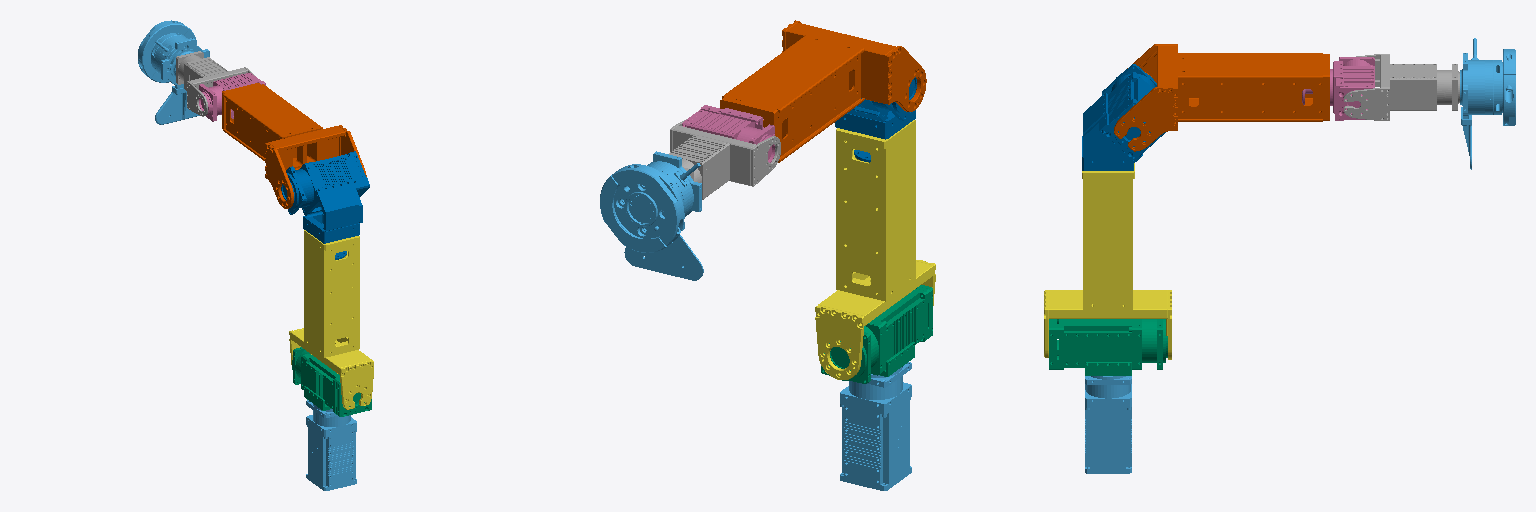
robot.urdf — pibot_right_arm:
<?xml version="1.0" encoding="utf-8"?>
<!-- =================================================================================== -->
<!-- |    This document was autogenerated by xacro from pibot_upper_body.urdf.xacro    | -->
<!-- |    EDITING THIS FILE BY HAND IS NOT RECOMMENDED                                 | -->
<!-- =================================================================================== -->
<robot name="pibot_right_arm">
  <link name="world"/>
  <joint name="world_joint" type="fixed">
    <parent link="world"/>
    <child link="rightarm_link1"/>
    <origin rpy="0.0 0.0 0.0" xyz="0.0 0.0 0.0"/>
  </joint>

  <!-- link 1 -->
  <link name="rightarm_link1">
    <visual>
      <origin rpy="0 0 0" xyz="0 0 0"/>
      <geometry>
        <mesh filename="package://open_manipulator_7dof_description/meshes/link1.stl" scale="0.001 0.001 0.001"/>
      </geometry>
      <material name="rightarm_grey"/>
    </visual>
    <collision>
      <origin rpy="0 0 0" xyz="0 0 0"/>
      <geometry>
        <mesh filename="package://open_manipulator_7dof_description/meshes/link1.stl" scale="0.001 0.001 0.001"/>
      </geometry>
    </collision>
    <inertial>
      <origin rpy="0 0 0" xyz="0.001e-3 0.00e-3 60.920e-3"/>
      <mass value="0.855"/>
      <inertia ixx="1272.200e-06" ixy="0.0" ixz="0.010e-6" iyx="0.0" iyy="1274.884e-06" iyz="0.0" izx="0.010e-6" izy="0.0" izz="376.058e-06"/>
      <!-- <inertia ixx="1.2766146" ixy="1.1040986e-02" ixz="3.6647805e-02" iyy="1.2415274" iyz="-9.7595981e-02" izz="3.6863307e-01" /> -->
      <!--<inertia ixx="0.00121064" ixy="0.0" ixz="0.00001100" iyy="0.00120886" iyz="0.0" izz="0.00038103" />-->
    </inertial>
  </link>
  <!-- Joint 1 -->
  <joint name="rightarm_joint1" type="revolute">
    <parent link="rightarm_link1"/>
    <child link="rightarm_link2"/>
    <origin rpy="0 0 0" xyz="0.0 0.0 0.126"/>
    <axis xyz="0 0 1"/>
    <limit effort="1000" lower="-2.98451302091" upper="2.98451302091" velocity="6.5"/>
    <dynamics damping="0.7"/>
  </joint>
  <!-- link 2 -->
  <link name="rightarm_link2">
    <visual>
      <origin rpy="0 0 0" xyz="0 0 0"/>
      <geometry>
        <mesh filename="package://open_manipulator_7dof_description/meshes/link2.stl" scale="0.001 0.001 0.001"/>
      </geometry>
      <material name="rightarm_grey"/>
    </visual>
    <collision>
      <origin rpy="0 0 0" xyz="0 0 0"/>
      <geometry>
        <mesh filename="package://open_manipulator_7dof_description/meshes/link2.stl" scale="0.001 0.001 0.001"/>
      </geometry>
    </collision>
    <inertial>
      <origin rpy="0 0 0" xyz="0.0 0.238e-3 32.024e-3"/>
      <mass value="9.4360595e-01"/>
      <inertia ixx="1552.686e-06" ixy="0.0" ixz="0.0" iyx="0.0" iyy="453.275e-6" iyz="-0.213e-6" izx="0.0" izy="-0.213e-6" izz="1540.777e-06"/>
    </inertial>
  </link>
  <!-- Joint 2 -->
  <joint name="rightarm_joint2" type="revolute">
    <parent link="rightarm_link2"/>
    <child link="rightarm_link3"/>
    <origin rpy="0 0 0" xyz="0.0 0.069 0.033"/>
    <axis xyz="0 1 0"/>
    <limit effort="1000" lower="-1.57079632679" upper="1.57079632679" velocity="6.5"/>
    <dynamics damping="0.7"/>
  </joint>
  <!-- link 3 -->
  <link name="rightarm_link3">
    <visual>
      <origin rpy="0 0 0" xyz="0 0 0"/>
      <geometry>
        <mesh filename="package://open_manipulator_7dof_description/meshes/link3.stl" scale="0.001 0.001 0.001"/>
      </geometry>
      <material name="rightarm_grey"/>
    </visual>
    <collision>
      <origin rpy="0 0 0" xyz="0 0 0"/>
      <geometry>
        <mesh filename="package://open_manipulator_7dof_description/meshes/link3.stl" scale="0.001 0.001 0.001"/>
      </geometry>
    </collision>
    <inertial>
      <origin rpy="0 0 0" xyz="0.001e-3 -68.947e-3 116.982e-3"/>
      <!--<origin xyz="-0.01232 -0.05731 -0.05876" rpy="0 0 0"/>-->
      <mass value="1.280"/>
      <inertia ixx="4955.278e-6" ixy="0.0" ixz="-0.021e-6" iyy="4269.315e-6" iyz="11.989e-6" izz="1425.683e-6"/>
    </inertial>
  </link>
  <!-- Joint 3 -->
  <joint name="rightarm_joint3" type="revolute">
    <parent link="rightarm_link3"/>
    <child link="rightarm_link4"/>
    <origin rpy="0 0 1.57079632679" xyz="0.0 -0.069 0.195"/>
    <axis xyz="0 0 1"/>
    <limit effort="1000" lower="-2.35619449019" upper="2.35619449019" velocity="6.5"/>
    <dynamics damping="0.7"/>
  </joint>
  <!-- link 4 -->
  <link name="rightarm_link4">
    <visual>
      <origin rpy="0 0 0" xyz="0 0 0"/>
      <geometry>
        <mesh filename="package://open_manipulator_7dof_description/meshes/link4.stl" scale="0.001 0.001 0.001"/>
      </geometry>
      <material name="rightarm_grey"/>
    </visual>
    <collision>
      <origin rpy="0 0 0" xyz="0 0 0"/>
      <geometry>
        <mesh filename="package://open_manipulator_7dof_description/meshes/link4.stl" scale="0.001 0.001 0.001"/>
      </geometry>
    </collision>
    <inertial>
      <origin rpy="0 0 0" xyz="21.079e-3 -2.170e-3 84.922e-3"/>
      <!--<origin xyz="-0.07025 0.00034 -0.00021" rpy="0 0 0"/>-->
      <mass value="1.080"/>
      <inertia ixx="1681.850e-6" ixy="-13.377e-6" ixz="-284.416e-6" iyy="1276.396e-6" iyz="2.756e-6" izz="1401.788e-6"/>
      <!--<inertia ixx="0.00096726" ixy="0.00004383" ixz="-0.00002771" iyy="0.00318801" iyz="0.00000627" izz="0.00341484" />-->
    </inertial>
  </link>
  <!-- Joint 4 -->
  <joint name="rightarm_joint4" type="revolute">
    <parent link="rightarm_link4"/>
    <child link="rightarm_link5"/>
    <origin rpy="0 0 0" xyz="0.029998 0.05750 0.097498"/>
    <axis xyz="0 1 0"/>
    <limit effort="1000" lower="-2.04203522483" upper="1.57079632679" velocity="6.5"/>
    <dynamics damping="0.7"/>
  </joint>
  <!-- link 5 -->
  <link name="rightarm_link5">
    <visual>
      <origin rpy="0 0 0" xyz="0 0 0"/>
      <geometry>
        <mesh filename="package://open_manipulator_7dof_description/meshes/link5.stl" scale="0.001 0.001 0.001"/>
      </geometry>
      <material name="rightarm_grey"/>
    </visual>
    <collision>
      <origin rpy="0 0 0" xyz="0 0 0"/>
      <geometry>
        <mesh filename="package://open_manipulator_7dof_description/meshes/link5.stl" scale="0.001 0.001 0.001"/>
      </geometry>
    </collision>
    <inertial>
      <origin rpy="0 0 0" xyz="120.043e-3 -56.958e-3 29.662e-3"/>
      <mass value="1.2126965e+00"/>
      <inertia ixx="1149.216e-6" ixy="1.483e-6" ixz="-57.426e-6" iyx="1.483e-6" iyy="4036.713e-6" iyz="0.956e-6" izx="-57.426e-6" izy="0.956e-6" izz="4400.519e-6"/>
    </inertial>
  </link>
  <!-- Joint 5 -->
  <joint name="rightarm_joint5" type="revolute">
    <parent link="rightarm_link5"/>
    <child link="rightarm_link6"/>
    <origin rpy="0 0 0" xyz="0.195 -0.05750 0.03"/>
    <axis xyz="1 0 0"/>
    <limit effort="1000" lower="-2.98451302091" upper="2.98451302091" velocity="6.5"/>
    <dynamics damping="0.7"/>
  </joint>
  <!-- link 6 -->
  <link name="rightarm_link6">
    <visual>
      <origin rpy="0 0 0" xyz="0 0 0"/>
      <geometry>
        <mesh filename="package://open_manipulator_7dof_description/meshes/link6.stl" scale="0.001 0.001 0.001"/>
      </geometry>
      <material name="rightarm_grey"/>
    </visual>
    <collision>
      <origin rpy="0 0 0" xyz="0 0 0"/>
      <geometry>
        <mesh filename="package://open_manipulator_7dof_description/meshes/link6.stl" scale="0.001 0.001 0.001"/>
      </geometry>
    </collision>
    <inertial>
      <origin rpy="0 0 0" xyz="57.143e-3 -2.069e-3 0.0"/>
      <mass value="4.6635550e-01"/>
      <inertia ixx="316.833e-6" ixy="0.235e-6" ixz="0.0" iyx="0.235e-6" iyy="219.588e-6" iyz="0.0" izx="0.0" izy="0.0" izz="404.989e-6"/>
    </inertial>
  </link>
  <!-- Joint 6 -->
  <joint name="rightarm_joint6" type="revolute">
    <parent link="rightarm_link6"/>
    <child link="rightarm_link7"/>
    <origin rpy="0 0 0" xyz="0.063 0.045 0.0"/>
    <axis xyz="0 1 0"/>
    <limit effort="1000" lower="-1.57079632679" upper="1.57079632679" velocity="6.5"/>
    <dynamics damping="0.7"/>
  </joint>
  <!-- link 7 -->
  <link name="rightarm_link7">
    <visual>
      <origin rpy="0 0 0" xyz="0 0 0"/>
      <geometry>
        <mesh filename="package://open_manipulator_7dof_description/meshes/link7.stl" scale="0.001 0.001 0.001"/>
      </geometry>
      <material name="rightarm_grey"/>
    </visual>
    <collision>
      <origin rpy="0 0 0" xyz="0 0 0"/>
      <geometry>
        <mesh filename="package://open_manipulator_7dof_description/meshes/link7.stl" scale="0.001 0.001 0.001"/>
      </geometry>
    </collision>
    <inertial>
      <origin rpy="0 0 0" xyz="69.744e-3 -45.936e-3 0.0"/>
      <mass value="4.2561606e-01"/>
      <inertia ixx="190.122e-6" ixy="-21.890e-6" ixz="0.00" iyx="-21.890e-6" iyy="406.031e-6" iyz="0.00" izx="0.00" izy="0.00" izz="471.847e-6"/>
    </inertial>
  </link>
  <!-- Joint 7 -->
  <joint name="rightarm_joint7" type="revolute">
    <parent link="rightarm_link7"/>
    <child link="rightarm_fake_end_link"/>
    <origin rpy="0 0 0" xyz="0.1230 -0.045 0.0"/>
    <axis xyz="1 0 0"/>
    <limit effort="1000" lower="-2.98451302091" upper="2.98451302091" velocity="6.5"/>
    <dynamics damping="0.7"/>
  </joint>
  <!-- end link -->
  <link name="rightarm_fake_end_link">
    <visual>
      <origin rpy="0 0 0" xyz="0.0 0.0 0.0"/>
      <geometry>
        <box size="0.01 0.01 0.01"/>
      </geometry>
      <material name="rightarm_grey"/>
    </visual>
    <!-- <collision>
      <origin xyz="0.0 0.0 0.0" rpy="0 0 0" />
      <geometry>
          <box size="0.01 0.01 0.01" />
        </geometry>
    </collision> -->
    <inertial>
      <origin rpy="0 0 0" xyz="0.00337 0.00000 0.00000"/>
      <mass value="0.01919"/>
      <inertia ixx="1.0" ixy="0.0" ixz="0.0" iyy="1.0" iyz="0.0" izz="1.0"/>
      <!--<inertia ixx="0.00000938" ixy="0.0" ixz="0.0" iyy="0.00000338" iyz="0.0" izz="0.00000635" />-->
    </inertial>
  </link>

  <joint name="rightarm_to_link" type="fixed">
    <parent link="rightarm_fake_end_link"/>
    <child link="rightarm_sensor_link"/>
    <!-- TODO: check base_link name of robot -->
    <axis xyz="1 0 0"/>
    <origin rpy="-3.14159265359 0.0 0.0" xyz="0.0 0.0 0.0"/>
  </joint>

  <!-- end link -->
  <!-- <link name="end_link">
    <visual>
      <origin xyz="0.0 0.0 0.0" rpy="0 0 0" />
      <geometry>
        <mesh filename="package://open_manipulator_7dof_description/meshes/end_link.stl" scale="0.001 0.001 0.001"/>
      </geometry>
      <material name="grey"/>
    </visual>

    <collision>
      <origin xyz="0.0 0.0 0.0" rpy="0 0 0" />
      <geometry>
        <mesh filename="package://open_manipulator_7dof_description/meshes/end_link.stl" scale="0.001 0.001 0.001"/>
      </geometry>
    </collision>

    <inertial>
      <origin xyz="0.00337 0.00000 0.00000" rpy="0 0 0"/>
      <mass value="0.01919"/>
      <inertia ixx="1.0" ixy="0.0" ixz="0.0" iyy="1.0" iyz="0.0" izz="1.0" />
      <!-<inertia ixx="0.00000938" ixy="0.0" ixz="0.0" iyy="0.00000338" iyz="0.0" izz="0.00000635" />->
    </inertial>
  </link> -->
  <!-- World -->
  <!-- World fixed joint-->
  <!-- <link name="world"/>
  <joint name="world_fixed" type="fixed">
    <origin xyz="0 0 0" rpy="0 0 0"/>
    <parent link="world"/>
    <child link="link1"/>
  </joint> -->
  <!-- <link name="world" />
  <joint name="world_joint" type="fixed">
    <parent link="world" />
    <child link="base_link" />
    <origin rpy="0.0 0.0 0.0" xyz="0.0 0.0 0.0" />
  </joint> -->
  
  <!-- sensor_link -->
  <link name="rightarm_sensor_link">
    <visual>
      <origin rpy="0 0 0" xyz="0 0 0"/>
      <geometry>
        <mesh filename="package://open_manipulator_7dof_description/meshes/Arm2Hand.stl" scale="0.001 0.001 0.001"/>
      </geometry>
      <color rgba="0.5 0.5 0.5 0.5"/>
    </visual>
    <collision>
      <origin rpy="0 0 0" xyz="0 0 0"/>
      <geometry>
        <mesh filename="package://open_manipulator_7dof_description/meshes/Arm2Hand.stl" scale="0.001 0.001 0.001"/>
      </geometry>
    </collision>
    <inertial>
      <origin rpy="0 0 0" xyz="0.00000 0.00080 0.03183"/>
      <!--<origin xyz="0.00000 -0.06820 -0.00117" rpy="0 0 0"/>-->
      <mass value="0.94658"/>
      <inertia ixx="1.0" ixy="0.0" ixz="0.0" iyy="1.0" iyz="0.0" izz="1.0"/>
      <!--<inertia ixx="0.00152547" ixy="0.0" ixz="0.0" iyy="0.00045954" iyz="-0.00001086" izz="0.00151740" />-->
    </inertial>
  </link>
  <!-- camera body, with origin at bottom screw mount -->
  <joint name="rightarm_camera_joint" type="fixed">
    <origin rpy="0 0 0" xyz="0.021275 0 0.0635"/>
    <parent link="rightarm_sensor_link"/>
    <child link="rightarm_camera_bottom_screw_frame"/>
  </joint>
  <link name="rightarm_camera_bottom_screw_frame">
    <inertial>
      <origin xyz="0 0 0" rpy="0 0 0"/>
      <mass value="0.0000000000000000000000000000001"/>
      <inertia ixx="0.0" iyy="0.0" izz="0.0" ixy="+0.0" iyz="+0.0" ixz="-0.0"/>
    </inertial>
  </link>
  <joint name="rightarm_camera_link_joint" type="fixed">
    <origin rpy="0 0 0" xyz="0.0106 0.0175 0.0125"/>
    <parent link="rightarm_camera_bottom_screw_frame"/>
    <child link="rightarm_camera_link"/>
  </joint>
  <link name="rightarm_camera_link">
    <visual>
      <!-- the mesh origin is at front plate in between the two infrared camera axes -->
      <origin rpy="1.57079632679 0 1.57079632679" xyz="0.0043 -0.0175 0"/>
      <geometry>
        <mesh filename="package://realsense2_description/meshes/d435.stl"/>
      </geometry>
    </visual>
    <collision>
      <origin rpy="0 0 0" xyz="0 -0.0175 0"/>
      <geometry>
        <box size="0.02505 0.09 0.025"/>
      </geometry>
    </collision>
    <inertial>
      <!-- The following are not reliable values, and should not be used for modeling -->
      <mass value="0.072"/>
      <origin xyz="0 0 0"/>
      <inertia ixx="0.003881243" ixy="0.0" ixz="0.0" iyy="0.000498940" iyz="0.0" izz="0.003879257"/>
    </inertial>
  </link>

  <link name="end_effector">
    <tcp number="1"/>
    <inertial>
      <origin xyz="0 0 0" rpy="0 0 0"/>
      <mass value="0.0000000000000000000000000000001"/>
      <inertia ixx="0.0" iyy="0.0" izz="0.0" ixy="+0.0" iyz="+0.0" ixz="-0.0"/>
    </inertial>
  </link>

  <joint name="end_effector" type="fixed">
    <origin xyz="0.06 0 0" rpy="0 0 0" />
    <parent link="rightarm_fake_end_link" />
    <child link="end_effector" />
    <axis xyz="0 0 0" />
  </joint>
  
  
</robot>

--- Render facts (derived) ---
Views: 3 orthographic renders of the robot side by side, from view 1: azimuth 30°, elevation 25°; view 2: azimuth 150°, elevation 25°; view 3: azimuth 270°, elevation 25°.
Robot: pibot_right_arm — 13 links, 12 joints (7 revolute, 5 fixed); root link world; default pose: every joint at zero.
Links seen in each view (by area): view 1: rightarm_link3, rightarm_link5, rightarm_link4, rightarm_link1, rightarm_sensor_link, rightarm_link2, rightarm_link7, rightarm_link6; view 2: rightarm_link3, rightarm_link5, rightarm_sensor_link, rightarm_link1, rightarm_link2, rightarm_link7, rightarm_link4, rightarm_link6; view 3: rightarm_link5, rightarm_link3, rightarm_link2, rightarm_link7, rightarm_link4, rightarm_link1, rightarm_sensor_link, rightarm_link6.
Boxes of the visible links, x1,y1,x2,y2 form: rightarm_link3: [289, 230, 373, 409]; rightarm_link5: [222, 83, 366, 208]; rightarm_link4: [281, 151, 369, 259]; rightarm_link1: [306, 400, 356, 490]; rightarm_sensor_link: [138, 20, 209, 124]; rightarm_link2: [292, 347, 371, 416]; rightarm_link7: [176, 51, 254, 116]; rightarm_link6: [199, 73, 265, 121]; rightarm_link3: [815, 120, 935, 379]; rightarm_link5: [720, 20, 926, 162]; rightarm_sensor_link: [600, 151, 703, 280]; rightarm_link1: [840, 362, 911, 490]; rightarm_link2: [821, 285, 932, 383]; rightarm_link7: [669, 119, 780, 199]; rightarm_link4: [835, 77, 916, 162]; rightarm_link6: [682, 105, 774, 162]; rightarm_link5: [1114, 44, 1329, 151]; rightarm_link3: [1044, 163, 1171, 359]; rightarm_link2: [1049, 319, 1167, 375]; rightarm_link7: [1344, 54, 1459, 120]; rightarm_link4: [1082, 64, 1165, 170]; rightarm_link1: [1085, 376, 1131, 473]; rightarm_sensor_link: [1460, 38, 1515, 169]; rightarm_link6: [1302, 57, 1374, 120].
Size in the robot's own frame: 0.124 by 0.5461 by 0.5265 metres.
8 mesh visuals loaded from 9 distinct referenced files (8 binary STL); not drawn: 1 (reference not matched to a file when rendering).
